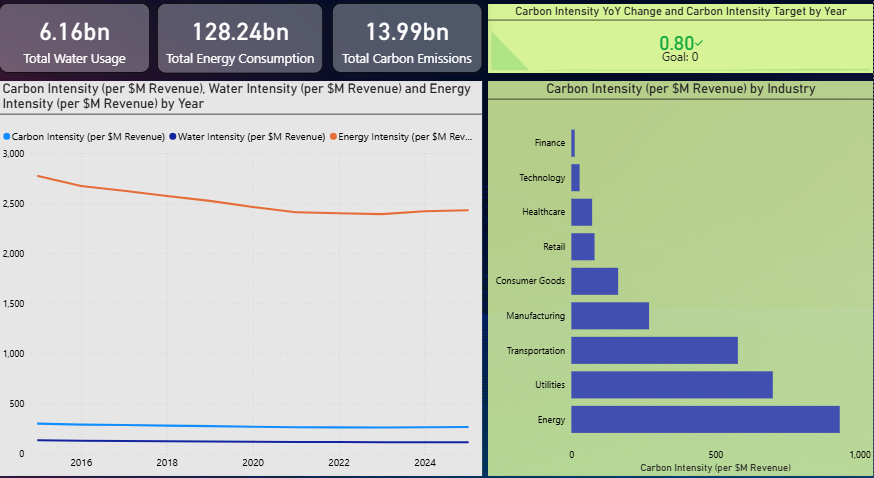

The dashboard page shown, as its layout file describes it:
{"tool":"powerbi","page":{"name":"Sustainability / Intensity","canvas":[1280,720],"ordinal":3},"visuals":[{"type":"lineChart","fields":{"Y":["All measures.Carbon Intensity (per $M Revenue)","All measures.Water Intensity (per $M Revenue)","All measures.Energy Intensity (per $M Revenue)"],"Category":["DimDate.Year"]},"box":[0,124.4,706.8,578],"z":0},{"type":"clusteredBarChart","fields":{"Category":["DimCompany.Industry"],"Y":["All measures.Carbon Intensity (per $M Revenue)"]},"box":[715.6,124.4,564.9,578],"z":1000},{"type":"kpi","fields":{"Indicator":["All measures.Carbon Intensity YoY Change"],"TrendLine":["DimDate.Year"],"Goal":["All measures.Carbon Intensity Target"]},"box":[715.6,11.7,547.3,101],"z":2000},{"type":"card","fields":{"Values":["All measures.Total Carbon Emissions"]},"box":[486.9,12.2,209.3,102.4],"z":3000},{"type":"card","fields":{"Values":["All measures.Total Energy Consumption"]},"box":[231.2,12.2,243.4,102.6],"z":4000},{"type":"card","fields":{"Values":["All measures.Total Water Usage"]},"box":[12.2,10.7,209.3,102.4],"z":5000}]}

Visuals, with their boxes in screenshot pixels (x1, y1, x2, y2), scaled from the page's 1280x720 canvas onto the 874x478 screenshot:
lineChart - All measures.Carbon Intensity (per $M Revenue) x All measures.Water Intensity (per $M Revenue): 0 83 483 466
clusteredBarChart - DimCompany.Industry x All measures.Carbon Intensity (per $M Revenue): 489 83 873 466
kpi - All measures.Carbon Intensity YoY Change x DimDate.Year: 489 8 862 75
card - All measures.Total Carbon Emissions: 332 8 475 76
card - All measures.Total Energy Consumption: 158 8 324 76
card - All measures.Total Water Usage: 8 7 151 75
